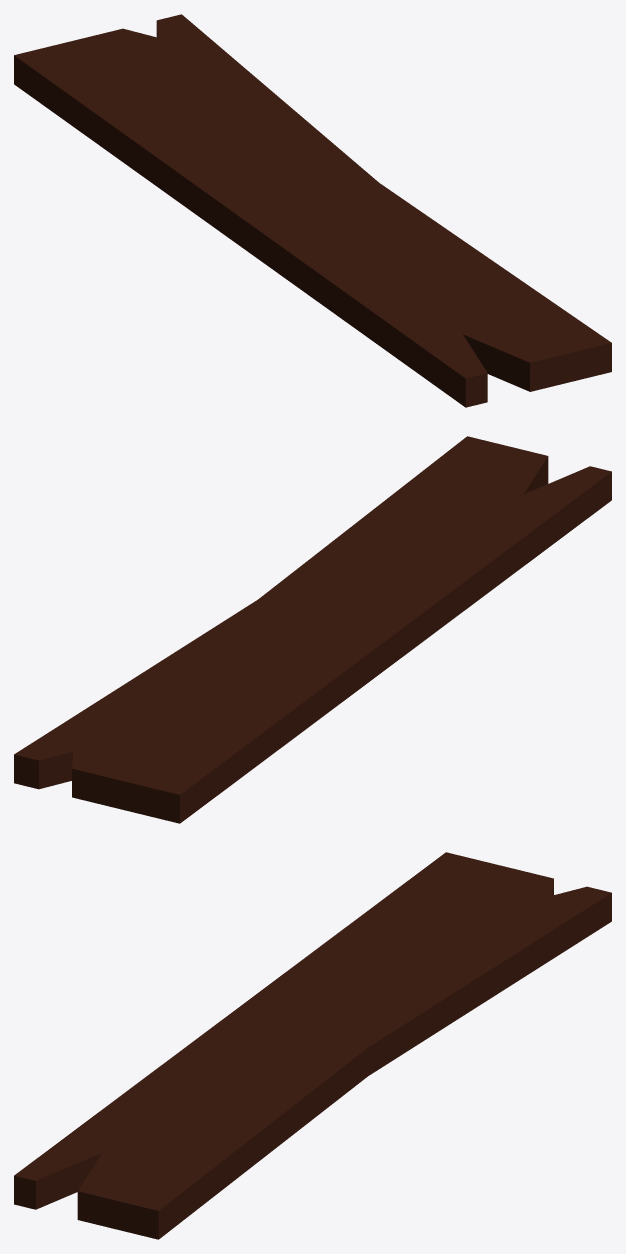
Rendered from Driftwood.fbx.
3 views of the same model, one above another, from view 1: azimuth 30°, elevation 25°; view 2: azimuth 150°, elevation 25°; view 3: azimuth 330°, elevation 25° (orthographic).
Visible parts, largest first — view 1: DriftWood; view 2: DriftWood; view 3: DriftWood.
Boxes of the visible parts, box(x1,y1,x2,y2) form: DriftWood: box(14, 14, 611, 407); DriftWood: box(14, 436, 611, 823); DriftWood: box(14, 852, 611, 1239).
Size of the model in its own units: 33.21 by 5.51 by 152.
